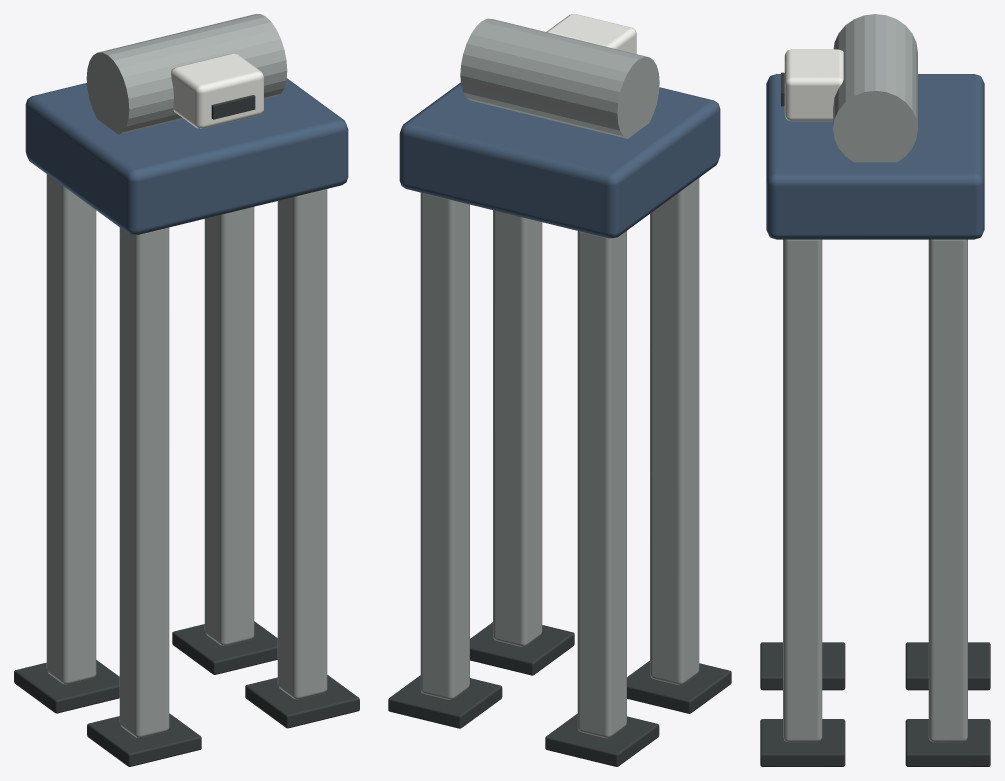
Rendered from spacecraft-parachute-packing-hall-spacecraft-parachute-1fac72b2__32110.glb.
3 views of the same model, side by side, from view 1: azimuth 30°, elevation 25°; view 2: azimuth 150°, elevation 25°; view 3: azimuth 270°, elevation 25° (orthographic).
Parts seen in each view (by area): view 1: spacecraft-parachute-packing-hall-line-length-measuring-carr (×4); view 2: spacecraft-parachute-packing-hall-line-length-measuring-carr (×4); view 3: spacecraft-parachute-packing-hall-line-length-measuring-carr (×4).
Boxes of the visible parts, left/top/right/bottom form: spacecraft-parachute-packing-hall-line-length-measuring-carr (×4): left=14, top=14, right=359, bottom=766; spacecraft-parachute-packing-hall-line-length-measuring-carr (×4): left=388, top=14, right=731, bottom=766; spacecraft-parachute-packing-hall-line-length-measuring-carr (×4): left=760, top=14, right=990, bottom=766.
Size of the model in its own units: 0.44 by 1.2 by 0.3799.
